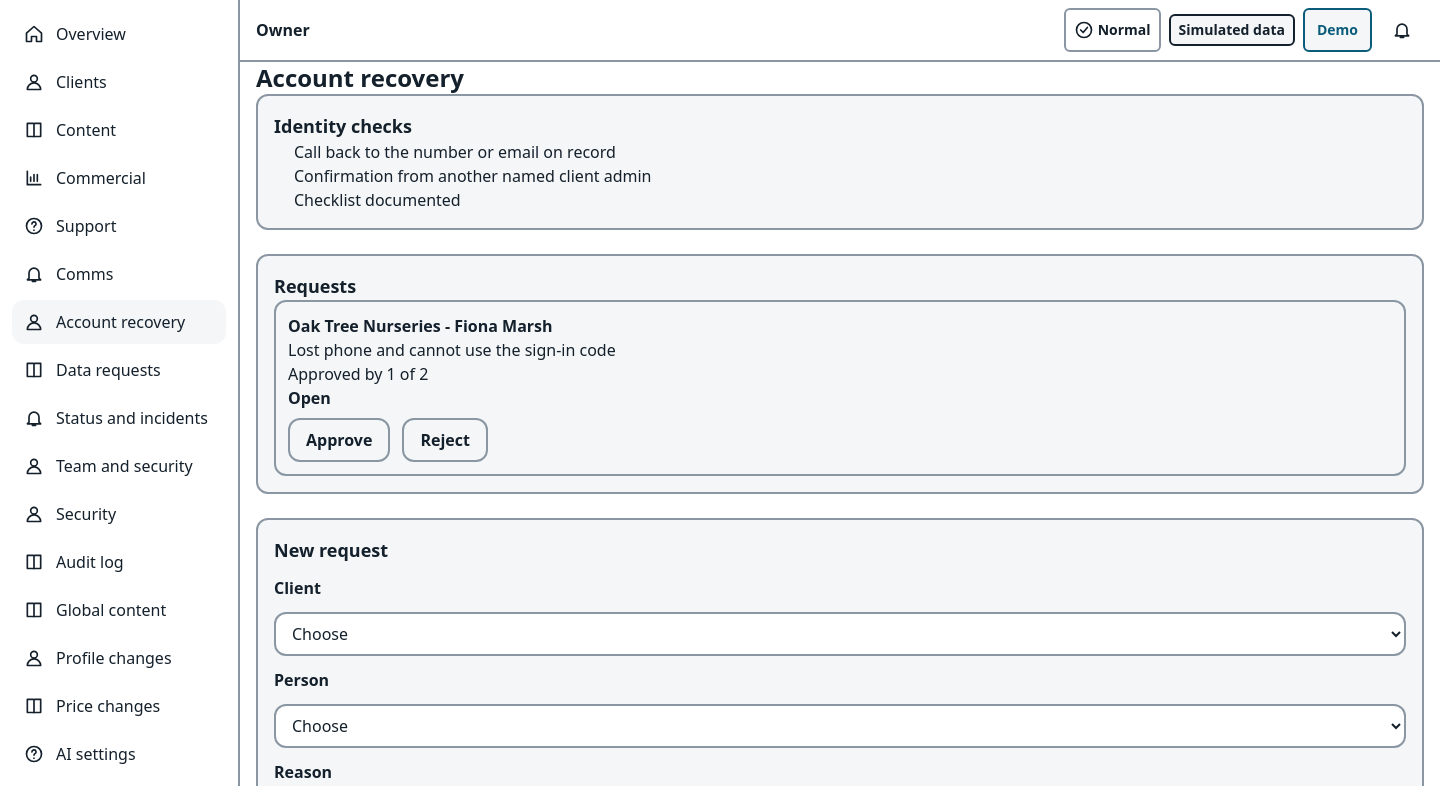
Test: P15 Account recovery › lets a different owner give the second approval, then shows the status Approved and a cooling-off countdown
Expected: the heading "Account recovery" is shown, [256,62,464,94]
Click the button "Approve". click: point(339, 440)
box: [288,418,390,462]
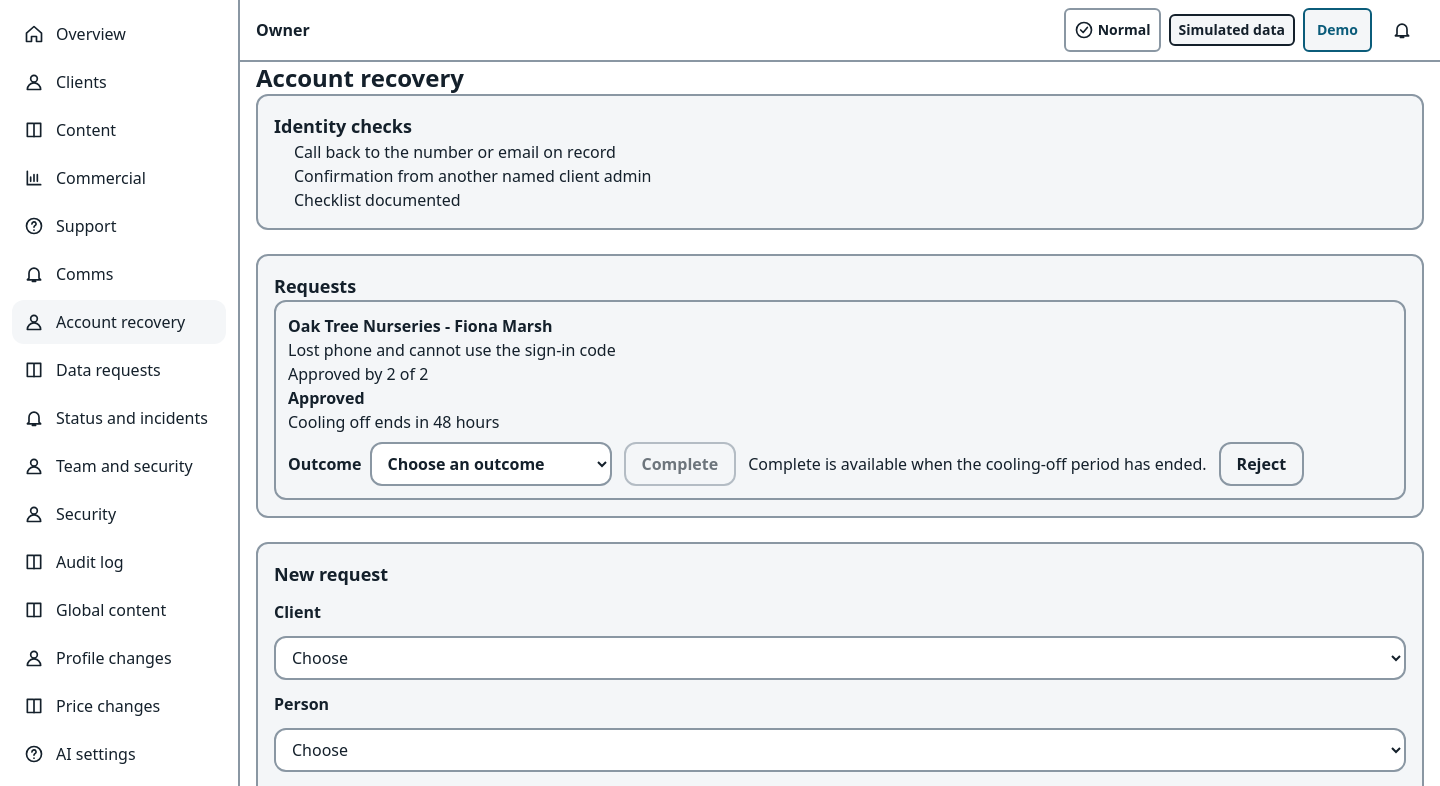
Expected: the list item with test id "recovery-row" shows "Approved", [288,387,364,409]
Expected: the list item with test id "recovery-row" shows "Approved by 2 of 2", [288,363,428,385]
Expected: the list item with test id "recovery-row" shows "Cooling off ends in 48 hours", [288,411,499,433]
